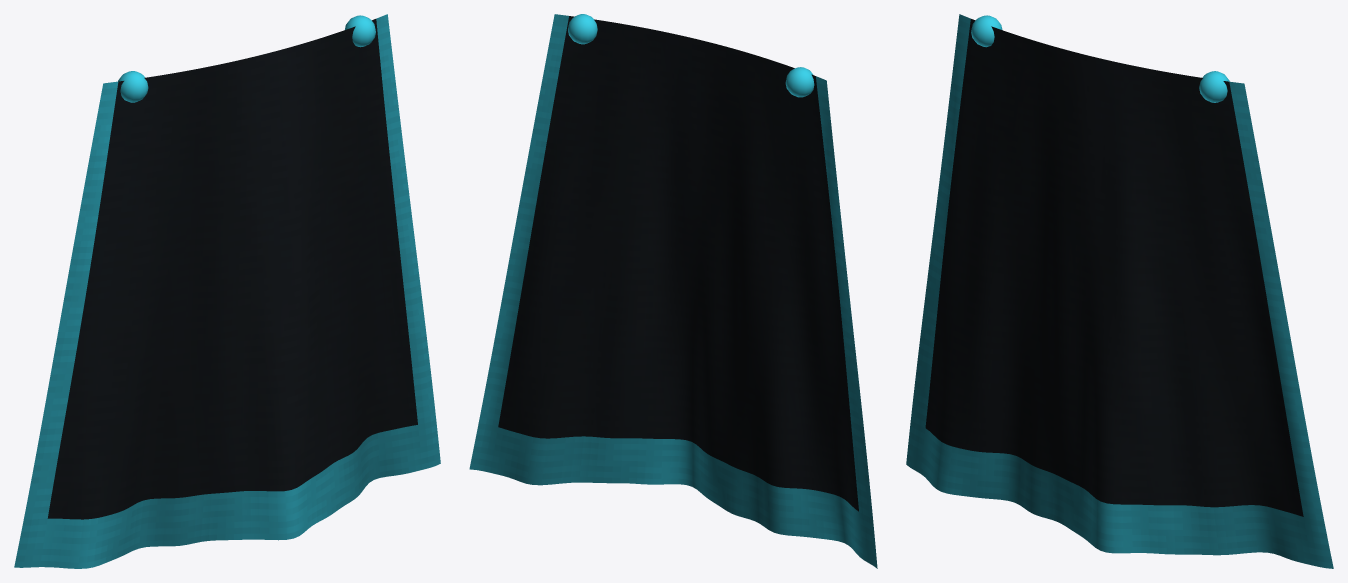
Rendered from cape_coat.glb.
3 views of the same model, side by side, from view 1: azimuth 30°, elevation 25°; view 2: azimuth 150°, elevation 25°; view 3: azimuth 330°, elevation 25° (orthographic). The views are drawn at different scales.
Visible parts, largest first — view 1: Cape, Sphere, Sphere.001; view 2: Cape, Sphere.001, Sphere; view 3: Cape, Sphere.001, Sphere.
Part boxes in pixels (x1,y1,x2,y2): Cape: (14, 14, 440, 568); Sphere: (118, 71, 148, 102); Sphere.001: (345, 15, 375, 47); Cape: (469, 14, 877, 568); Sphere.001: (568, 14, 597, 44); Sphere: (785, 67, 814, 97); Cape: (906, 14, 1333, 568); Sphere.001: (1199, 71, 1229, 102); Sphere: (971, 15, 1002, 47).
Size of the model in its own units: 0.93 by 1.01 by 0.153.
